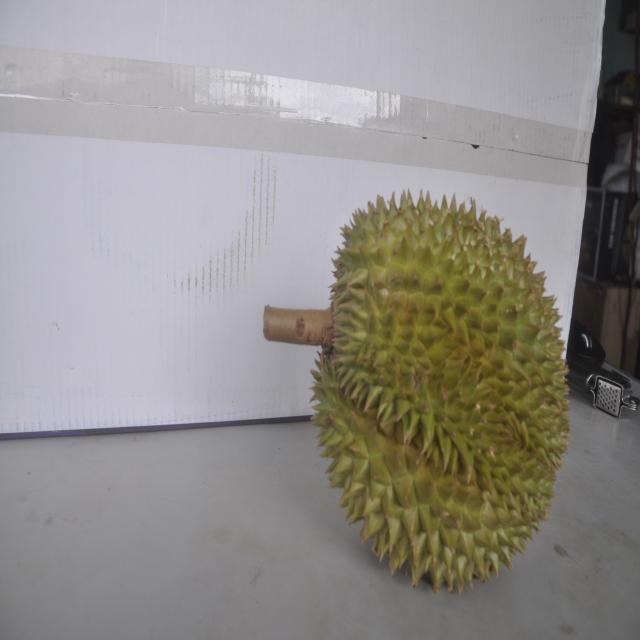mature: (314, 187, 574, 588)
